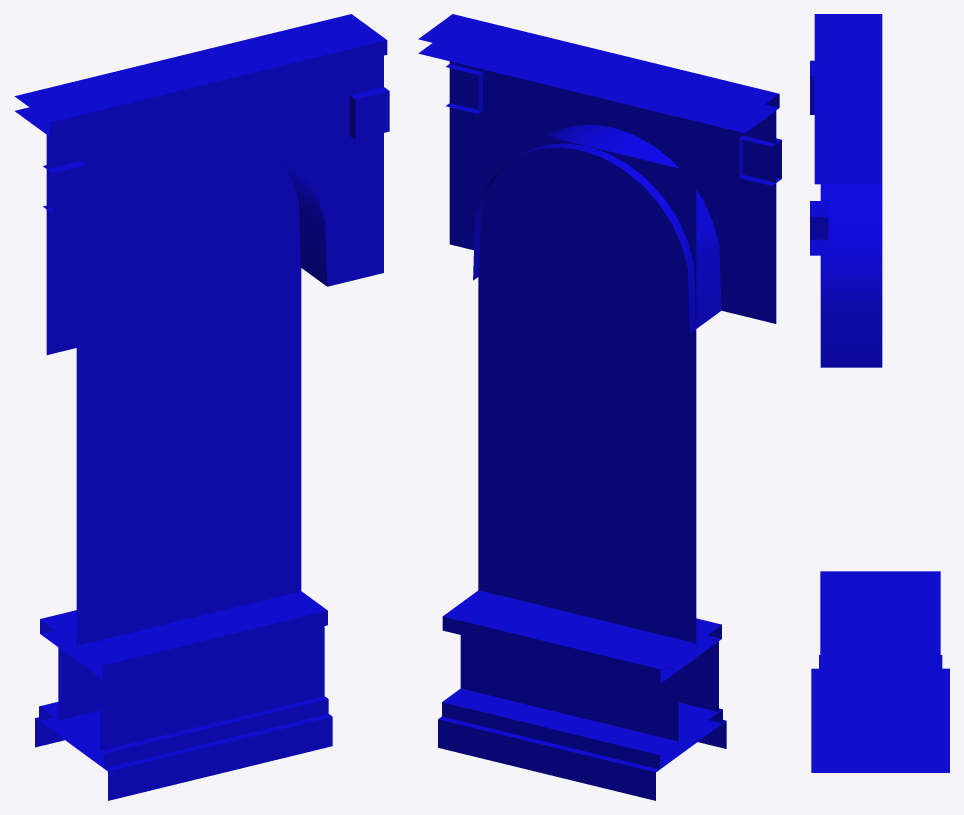
File: SM_town_BD_1F_join.fbx
The picture shows the model from 3 angles, left to right: view 1: azimuth 30°, elevation 25°; view 2: azimuth 150°, elevation 25°; view 3: azimuth 270°, elevation 25°; orthographic projection. The views are drawn at different scales.
Parts seen in each view (by area): view 1: window; view 2: window; view 3: window.
Part boxes in pixels (left/top/right/bottom): window: left=14, top=14, right=389, bottom=800; window: left=418, top=14, right=781, bottom=800; window: left=810, top=14, right=949, bottom=772.
Bounding box in the file's own units: 240 × 470 × 90.8.
